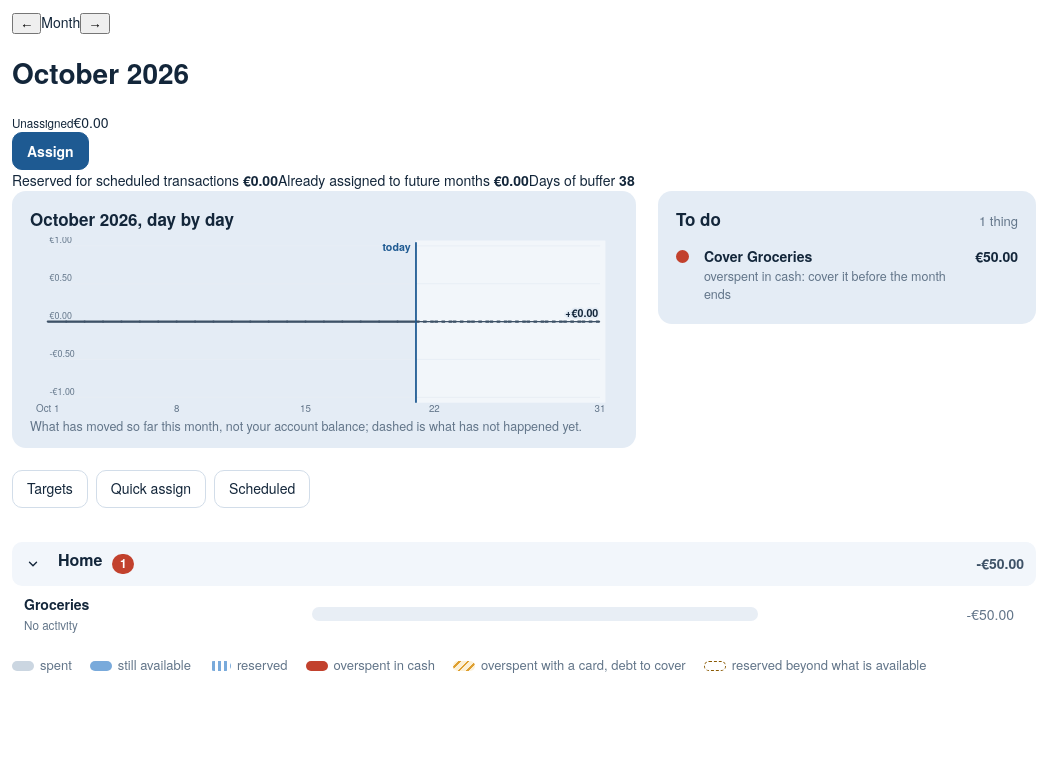
Test: BudgetScreen (#53, #324) › opens a category's own row detail from a 'To do' item on the desktop too, expanding its group if collapsed (#411)
Expected: the text "Groceries" is shown, [24,594,89,614]
Click the button with aria-label "Close Home" at [76, 564], box [18,548,134,580]
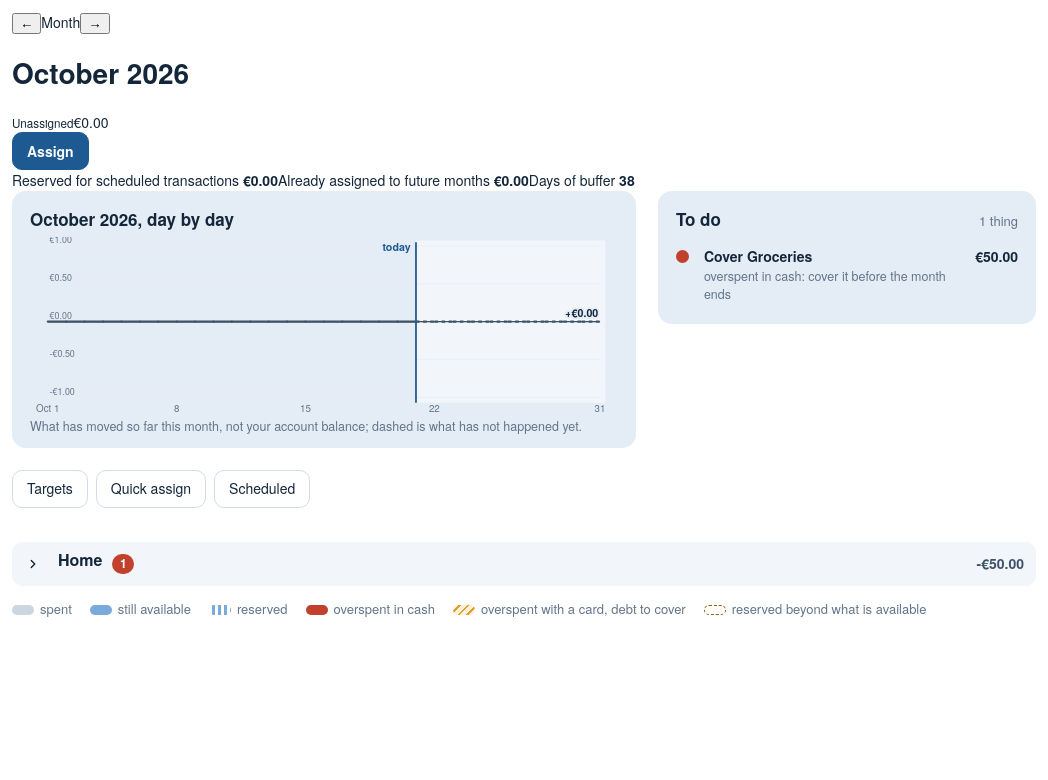
Click the button "Cover Groceries" at [847, 275], box [676,237,1018,312]
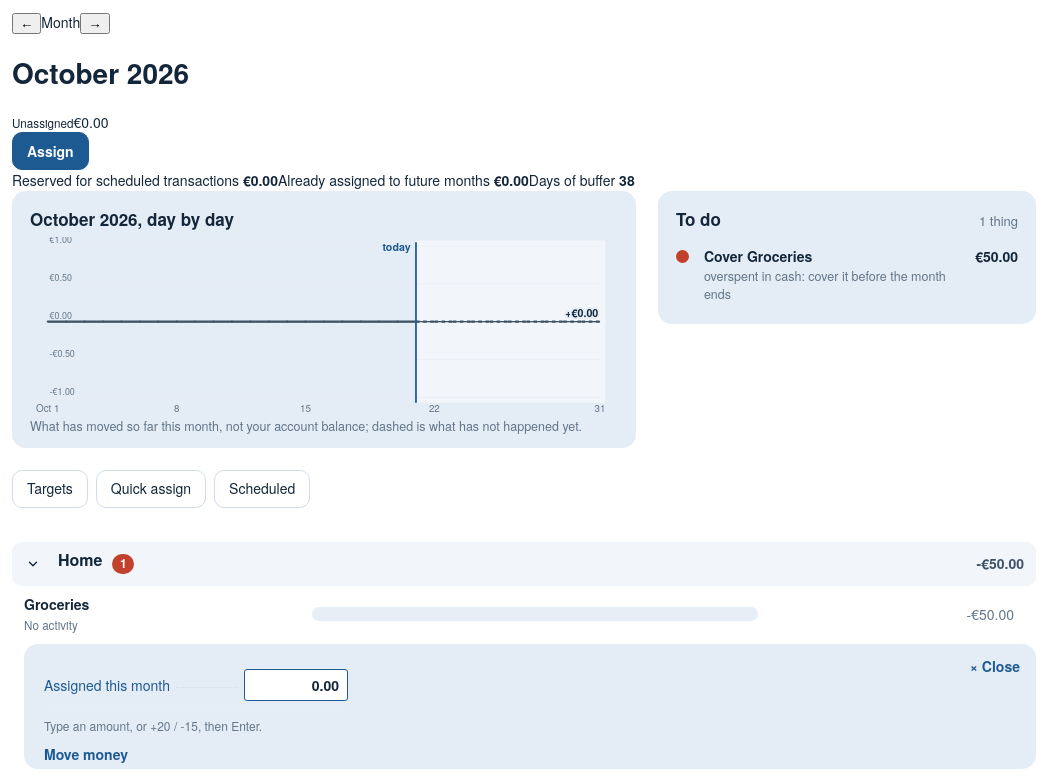
Expected: the text "Groceries" is shown, [24,594,89,614]
Expected: the field labelled "Assigned this month" is shown, [244,669,348,701]
